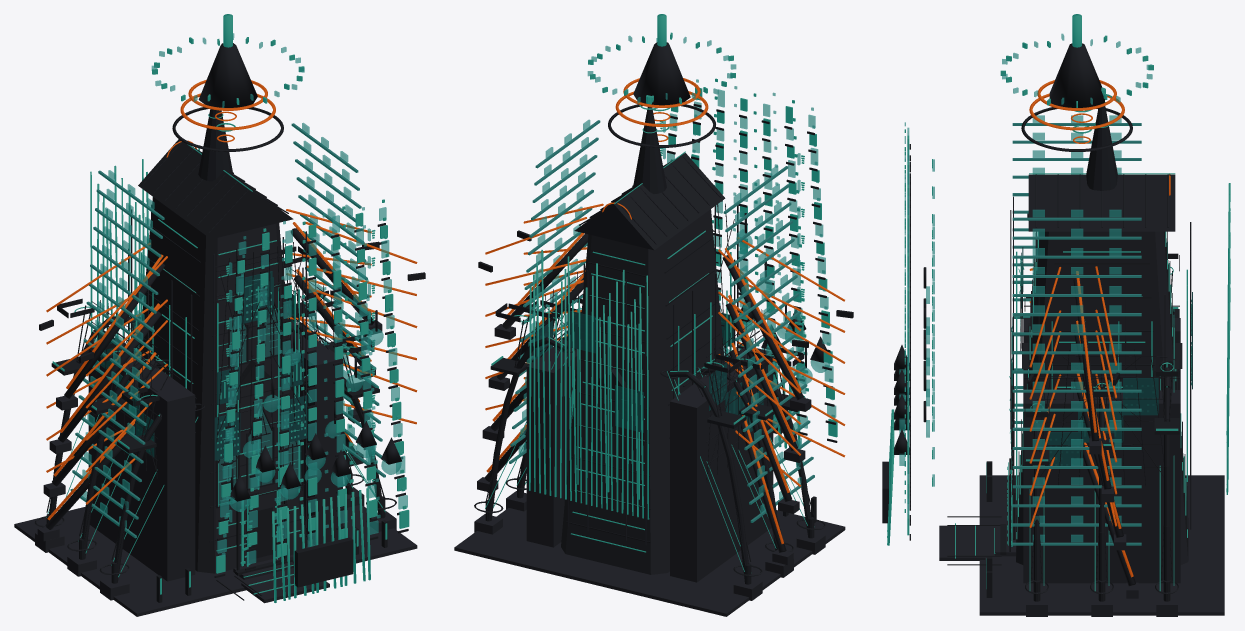
The model's file is analytics-ext-hero.glb.
3 views of the same model, side by side, from view 1: azimuth 30°, elevation 25°; view 2: azimuth 150°, elevation 25°; view 3: azimuth 270°, elevation 25° (orthographic). The views are drawn at different scales.
Parts seen in each view (by area): view 1: analytics_s86_base_hero_mesh, analytics_s86_detail_hero_mesh, analytics_s86_emissive_hero_mesh, analytics_s86_holo_hero_mesh, analytics_s86_accent_hero_mesh, analytics_s86_energy_hero_mesh, analytics_ext_glass_packed; view 2: analytics_s86_base_hero_mesh, analytics_s86_detail_hero_mesh, analytics_s86_emissive_hero_mesh, analytics_s86_holo_hero_mesh, analytics_s86_energy_hero_mesh, analytics_s86_accent_hero_mesh, analytics_ext_glass_packed; view 3: analytics_s86_base_hero_mesh, analytics_s86_detail_hero_mesh, analytics_s86_accent_hero_mesh, analytics_s86_holo_hero_mesh, analytics_s86_emissive_hero_mesh, analytics_s86_energy_hero_mesh, analytics_ext_glass_packed.
Boxes of the visible parts, bbox=[...] form: analytics_s86_base_hero_mesh: bbox=[14, 197, 417, 616]; analytics_s86_detail_hero_mesh: bbox=[35, 43, 425, 602]; analytics_s86_emissive_hero_mesh: bbox=[46, 14, 409, 602]; analytics_s86_holo_hero_mesh: bbox=[82, 33, 407, 564]; analytics_s86_accent_hero_mesh: bbox=[70, 123, 385, 538]; analytics_s86_energy_hero_mesh: bbox=[46, 80, 417, 520]; analytics_ext_glass_packed: bbox=[98, 271, 307, 460]; analytics_s86_base_hero_mesh: bbox=[454, 205, 845, 616]; analytics_s86_detail_hero_mesh: bbox=[474, 42, 853, 584]; analytics_s86_emissive_hero_mesh: bbox=[485, 14, 837, 571]; analytics_s86_holo_hero_mesh: bbox=[518, 35, 836, 512]; analytics_s86_energy_hero_mesh: bbox=[485, 78, 845, 543]; analytics_s86_accent_hero_mesh: bbox=[509, 120, 814, 522]; analytics_ext_glass_packed: bbox=[535, 310, 763, 432]; analytics_s86_base_hero_mesh: bbox=[939, 196, 1224, 616]; analytics_s86_detail_hero_mesh: bbox=[882, 43, 1187, 601]; analytics_s86_accent_hero_mesh: bbox=[1010, 123, 1191, 545]; analytics_s86_holo_hero_mesh: bbox=[899, 33, 1152, 542]; analytics_s86_emissive_hero_mesh: bbox=[887, 14, 1230, 591]; analytics_s86_energy_hero_mesh: bbox=[1029, 80, 1170, 577]; analytics_ext_glass_packed: bbox=[1011, 247, 1192, 465].
Bounding box in the file's own units: 13.2 × 19.38 × 11.51.
